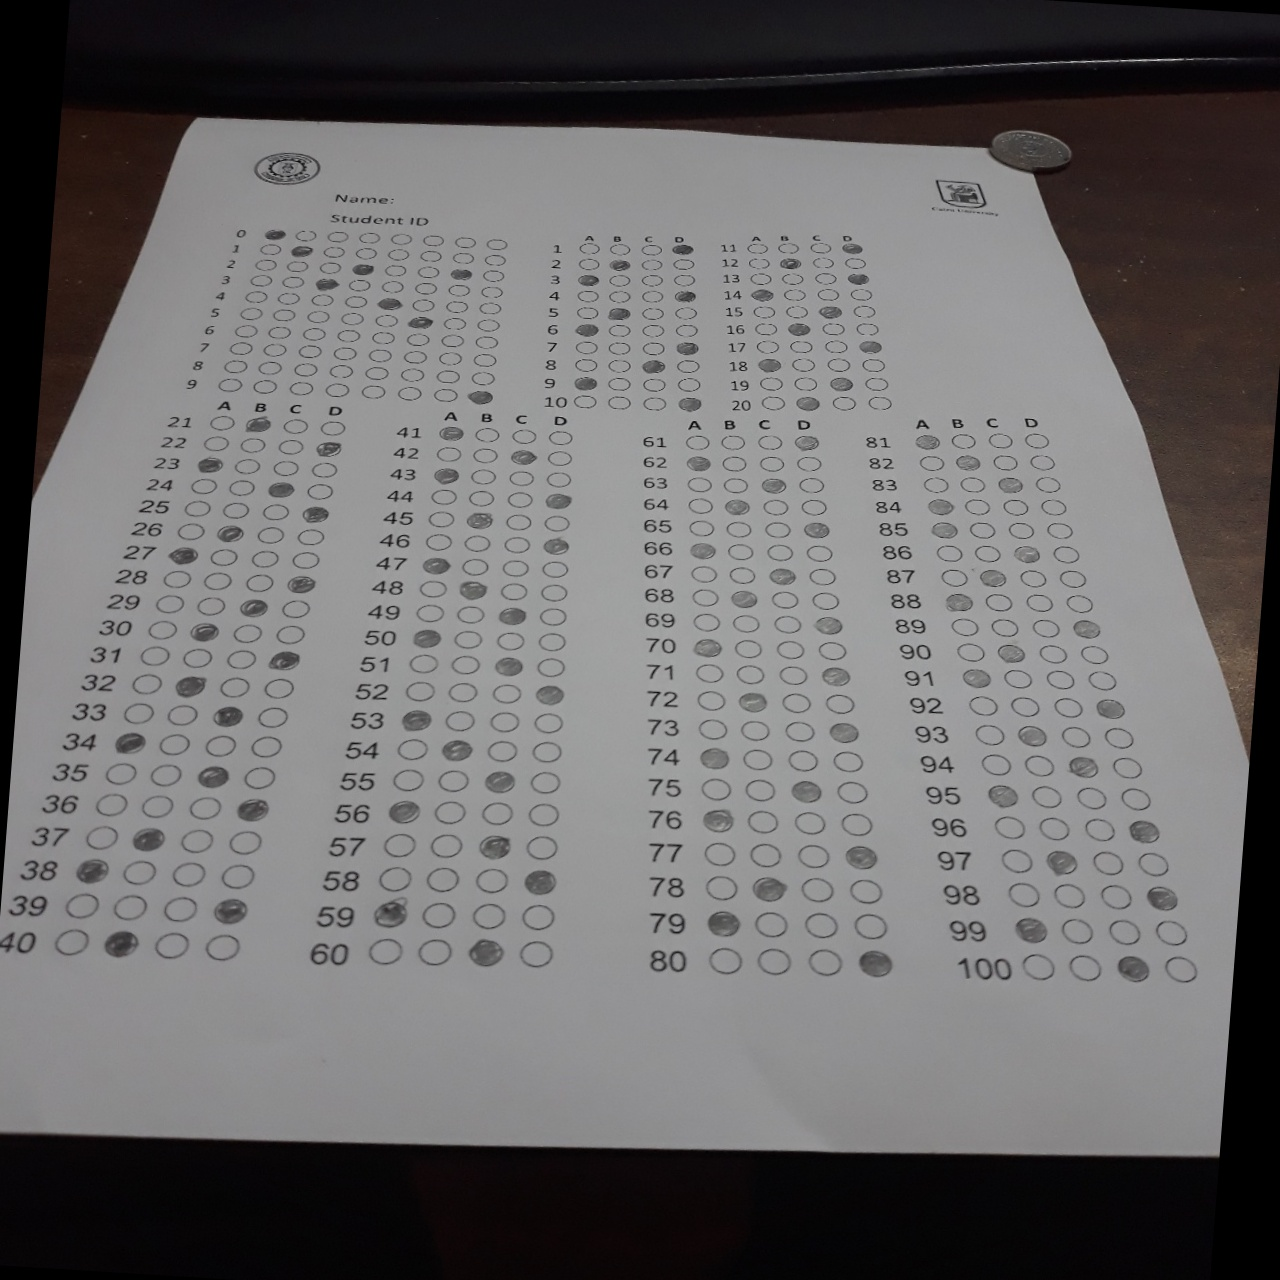not-c: (706, 944, 744, 975), (802, 908, 840, 940), (1151, 917, 1189, 948), (745, 837, 782, 869), (469, 898, 506, 928), (422, 865, 459, 896), (428, 830, 465, 860), (381, 828, 418, 858), (474, 864, 511, 894), (527, 797, 565, 828), (388, 762, 425, 792), (755, 945, 792, 975), (701, 836, 738, 866), (1019, 949, 1056, 980), (1107, 917, 1144, 947), (1053, 879, 1090, 910), (414, 937, 452, 966), (518, 937, 554, 967), (377, 863, 414, 893), (524, 831, 560, 862), (753, 908, 789, 939), (1068, 951, 1104, 981), (1097, 880, 1133, 911), (420, 899, 457, 928), (477, 798, 515, 828), (797, 873, 835, 903), (1160, 954, 1198, 983), (431, 796, 467, 826), (520, 903, 557, 932), (704, 873, 741, 903), (796, 840, 832, 870), (1056, 915, 1092, 945), (368, 937, 406, 965), (999, 847, 1036, 874), (1088, 847, 1125, 874), (1081, 815, 1118, 842), (1117, 785, 1155, 812), (1108, 753, 1145, 779), (1056, 721, 1094, 748), (1007, 879, 1043, 906), (1099, 723, 1136, 750), (969, 720, 1006, 747), (978, 750, 1014, 777), (1022, 751, 1058, 778), (993, 815, 1030, 840), (1037, 813, 1073, 840), (1030, 781, 1065, 808), (1133, 849, 1170, 874), (1076, 784, 1112, 810), (529, 765, 561, 794), (847, 876, 881, 903), (229, 829, 263, 855), (852, 913, 886, 939), (840, 811, 873, 837), (141, 794, 175, 818), (188, 795, 222, 819), (181, 828, 215, 852), (164, 896, 198, 920), (113, 894, 147, 919), (55, 928, 89, 953), (806, 949, 840, 974), (440, 765, 470, 792), (531, 736, 563, 762), (222, 864, 254, 888), (155, 932, 188, 956), (64, 892, 97, 917), (86, 824, 120, 847), (533, 706, 564, 731), (274, 622, 306, 647), (489, 707, 520, 731), (447, 679, 478, 703), (452, 625, 484, 649), (122, 859, 155, 883), (173, 862, 206, 885), (407, 652, 440, 675), (501, 531, 533, 554), (816, 636, 849, 660), (741, 747, 774, 770), (1010, 695, 1043, 719), (966, 694, 999, 717), (1049, 694, 1082, 717), (1044, 667, 1077, 690), (244, 572, 274, 597), (486, 737, 517, 762), (539, 556, 571, 579), (776, 636, 808, 660), (1001, 663, 1033, 687), (1063, 591, 1095, 614), (1043, 518, 1075, 542), (207, 937, 240, 959), (414, 600, 447, 622), (731, 636, 764, 659), (692, 662, 724, 685), (822, 693, 855, 715), (745, 811, 778, 833), (794, 811, 826, 833), (835, 779, 867, 802), (1030, 615, 1063, 638), (1023, 588, 1056, 611), (937, 565, 969, 587), (1016, 565, 1049, 587), (1049, 542, 1082, 564), (988, 617, 1022, 638), (445, 707, 476, 730), (451, 653, 482, 676), (538, 604, 568, 627), (264, 676, 295, 699), (132, 670, 164, 693), (403, 679, 435, 701), (536, 655, 567, 678), (496, 628, 527, 651), (417, 576, 449, 598), (538, 580, 570, 602), (771, 612, 803, 634), (731, 613, 763, 635), (778, 663, 810, 686), (734, 662, 765, 685), (695, 689, 727, 712), (741, 719, 772, 741), (782, 719, 813, 741), (781, 690, 812, 713), (832, 750, 864, 772), (744, 778, 776, 801), (1085, 669, 1117, 692), (1078, 644, 1110, 666), (1039, 641, 1070, 663), (956, 640, 988, 662), (983, 591, 1015, 613), (948, 614, 980, 636), (973, 540, 1005, 563), (1057, 566, 1089, 588), (696, 717, 729, 738), (699, 778, 731, 799), (1037, 495, 1070, 516), (280, 598, 309, 621), (183, 646, 213, 668), (123, 702, 154, 724), (204, 734, 234, 756), (399, 737, 429, 760), (491, 683, 522, 706), (456, 602, 486, 625), (499, 579, 530, 601), (501, 554, 531, 577), (787, 748, 817, 770), (251, 735, 282, 756), (257, 706, 288, 727), (536, 629, 567, 651), (467, 486, 498, 508), (503, 511, 535, 532), (686, 493, 717, 515), (689, 610, 721, 631), (933, 542, 965, 563), (1000, 496, 1033, 516), (220, 675, 250, 697), (150, 764, 181, 785), (424, 531, 455, 552), (459, 554, 490, 576), (425, 508, 456, 529), (504, 488, 535, 509), (510, 424, 542, 444), (720, 474, 751, 493), (809, 590, 840, 610), (1033, 474, 1064, 493), (226, 648, 256, 669), (166, 704, 196, 726), (158, 733, 188, 754), (244, 765, 273, 787), (96, 794, 125, 815), (540, 512, 570, 533), (462, 532, 492, 552), (429, 485, 459, 505), (685, 517, 715, 537), (809, 567, 839, 587), (915, 454, 946, 474), (105, 762, 134, 783), (467, 465, 498, 484), (720, 452, 751, 471), (727, 565, 758, 584), (1007, 519, 1039, 538), (546, 448, 577, 467), (474, 424, 504, 443), (470, 445, 501, 464), (685, 475, 715, 493), (753, 433, 783, 451), (756, 454, 787, 472), (794, 475, 824, 493), (799, 497, 830, 516), (769, 588, 799, 607), (688, 564, 719, 583), (724, 542, 755, 560), (763, 542, 794, 560), (763, 520, 794, 539), (956, 475, 987, 493), (921, 475, 952, 493), (164, 568, 192, 588), (543, 469, 574, 486), (433, 445, 464, 463), (986, 430, 1017, 448), (949, 433, 981, 450), (546, 427, 576, 445), (505, 468, 535, 486), (792, 455, 822, 474), (806, 544, 836, 563), (692, 588, 721, 607), (760, 497, 789, 516), (234, 622, 261, 642), (722, 520, 753, 538), (967, 520, 998, 538), (989, 452, 1020, 470), (1028, 452, 1058, 470), (189, 476, 217, 495), (682, 433, 712, 450), (719, 433, 748, 450), (964, 497, 993, 515), (209, 413, 236, 431), (202, 434, 229, 452), (263, 502, 290, 520), (306, 482, 333, 501), (297, 527, 324, 546), (319, 420, 346, 438), (252, 550, 279, 568), (292, 550, 319, 568), (197, 595, 224, 614), (150, 619, 177, 638), (1021, 433, 1051, 449), (272, 459, 300, 477), (309, 459, 338, 477), (209, 547, 237, 565), (239, 435, 266, 452), (282, 416, 309, 434), (234, 456, 261, 474), (223, 501, 250, 518), (177, 522, 204, 539), (141, 646, 168, 663), (183, 499, 211, 516), (831, 394, 857, 411), (823, 338, 849, 355), (817, 285, 843, 302), (862, 374, 888, 390), (865, 394, 892, 410), (275, 437, 302, 454), (229, 479, 256, 496), (257, 525, 284, 542), (204, 572, 231, 588), (156, 594, 183, 611), (855, 321, 880, 338), (826, 358, 852, 374), (821, 320, 846, 336), (577, 257, 602, 273), (573, 305, 599, 321), (675, 375, 701, 392), (411, 280, 438, 295), (479, 282, 506, 298), (346, 277, 373, 292), (440, 333, 467, 348), (257, 240, 284, 256), (275, 291, 302, 306), (297, 342, 324, 358), (302, 325, 329, 340), (311, 291, 338, 306), (781, 271, 805, 287), (784, 302, 809, 319), (754, 321, 778, 338), (755, 338, 779, 354), (638, 270, 662, 286), (607, 288, 632, 305), (640, 306, 665, 322), (674, 304, 699, 320), (574, 338, 599, 354), (608, 340, 633, 356), (640, 340, 665, 356), (675, 358, 700, 374), (607, 375, 632, 392), (573, 393, 598, 409), (641, 395, 666, 411), (862, 358, 887, 373), (812, 268, 838, 284), (761, 394, 787, 409), (576, 287, 601, 302), (573, 358, 599, 373), (384, 246, 410, 261), (355, 246, 381, 261), (339, 309, 365, 325), (442, 314, 468, 329), (338, 327, 363, 342), (406, 331, 431, 346), (403, 349, 429, 365), (366, 347, 392, 362), (327, 362, 353, 377), (435, 368, 461, 383), (401, 366, 427, 381), (288, 380, 314, 395), (217, 376, 243, 392), (222, 358, 247, 373), (226, 340, 252, 355), (236, 322, 261, 338), (246, 271, 272, 286), (295, 226, 321, 241), (267, 324, 293, 339), (261, 342, 287, 358), (294, 361, 320, 376), (319, 259, 345, 274), (324, 243, 349, 258), (640, 322, 663, 339), (607, 358, 631, 374), (642, 375, 666, 392), (607, 395, 631, 411), (377, 279, 404, 293), (753, 304, 777, 319), (794, 375, 818, 390), (670, 256, 695, 271), (673, 322, 697, 338), (607, 322, 632, 338), (388, 230, 413, 245), (445, 299, 470, 314), (477, 299, 502, 314), (272, 307, 297, 322), (482, 252, 508, 266), (418, 248, 444, 263), (417, 265, 443, 279), (382, 263, 408, 277), (358, 230, 383, 244), (445, 282, 471, 297), (343, 294, 369, 308), (476, 316, 502, 331), (375, 312, 401, 326), (372, 329, 397, 343), (474, 334, 499, 348), (472, 352, 498, 366), (438, 350, 464, 365), (335, 346, 361, 360), (325, 382, 350, 396), (361, 384, 387, 399), (397, 384, 423, 399), (365, 366, 390, 380), (434, 386, 459, 400), (253, 380, 279, 394), (238, 306, 264, 320), (244, 288, 270, 302), (252, 256, 278, 270), (285, 258, 311, 272), (256, 359, 281, 373), (304, 309, 329, 324), (783, 287, 806, 302), (790, 356, 813, 372), (760, 375, 783, 390), (670, 271, 694, 286), (640, 288, 663, 304), (324, 229, 350, 241), (788, 339, 812, 353), (484, 236, 509, 250), (411, 297, 436, 311), (470, 370, 495, 384), (281, 275, 306, 290), (747, 256, 772, 268), (747, 271, 772, 284), (608, 273, 632, 287), (849, 287, 873, 300), (775, 240, 799, 253), (481, 268, 505, 281), (452, 234, 477, 247), (641, 241, 663, 256), (843, 256, 866, 268), (852, 304, 876, 316), (812, 256, 836, 268), (745, 240, 769, 253), (640, 257, 663, 270), (422, 233, 445, 246), (810, 241, 835, 253), (578, 240, 602, 252), (452, 251, 477, 263), (610, 241, 632, 254)
taken-c: (380, 795, 423, 828), (518, 864, 558, 896), (209, 894, 248, 924), (73, 855, 113, 884), (472, 832, 512, 862), (372, 899, 409, 930), (101, 927, 139, 956), (465, 937, 504, 966), (479, 764, 518, 794), (857, 951, 896, 978), (699, 806, 736, 833), (954, 663, 992, 690), (1141, 887, 1179, 913), (990, 639, 1029, 665), (750, 874, 787, 901), (1044, 847, 1081, 874), (1064, 753, 1101, 779), (787, 779, 824, 805), (840, 843, 878, 869), (1012, 917, 1049, 942), (1116, 956, 1153, 982), (1091, 695, 1129, 721), (826, 719, 863, 744), (696, 745, 733, 771), (704, 911, 741, 937), (1126, 817, 1163, 843), (982, 784, 1019, 810), (1014, 722, 1051, 747), (498, 600, 535, 625), (408, 626, 445, 649), (440, 737, 475, 762), (397, 708, 433, 733), (492, 653, 527, 678), (530, 681, 565, 706), (270, 651, 302, 675), (456, 579, 492, 600), (509, 445, 545, 467), (756, 474, 792, 495), (813, 666, 850, 687), (418, 553, 452, 576), (115, 729, 147, 753), (425, 464, 461, 485), (719, 497, 754, 518), (788, 431, 823, 452), (724, 588, 760, 610), (683, 538, 719, 559), (689, 636, 724, 658), (537, 535, 573, 554), (433, 421, 469, 441), (801, 520, 837, 540), (734, 693, 770, 713), (282, 571, 313, 594), (189, 620, 220, 642), (461, 510, 496, 530), (542, 491, 577, 511), (685, 452, 720, 472), (763, 564, 798, 584), (166, 545, 197, 567), (175, 674, 205, 696), (237, 798, 267, 821), (239, 595, 268, 618), (212, 703, 241, 726), (132, 828, 162, 850), (197, 765, 227, 787), (944, 590, 973, 611), (1071, 618, 1102, 638), (978, 567, 1008, 587), (993, 476, 1024, 495), (954, 452, 983, 472), (1013, 545, 1043, 564), (931, 519, 961, 538), (924, 497, 954, 516), (914, 433, 942, 452), (196, 455, 223, 474), (215, 524, 241, 542), (266, 481, 293, 497), (301, 505, 328, 522), (407, 314, 433, 329), (787, 321, 811, 336), (829, 375, 853, 390), (668, 240, 693, 256), (750, 285, 774, 300), (680, 396, 703, 411), (676, 339, 700, 354), (576, 321, 599, 336), (263, 224, 286, 239), (576, 272, 600, 286), (840, 240, 863, 256), (818, 304, 840, 319), (608, 257, 631, 272), (316, 275, 339, 291), (858, 339, 881, 353), (796, 395, 819, 409), (756, 356, 779, 370), (673, 288, 696, 302), (606, 306, 629, 320), (449, 266, 472, 280), (469, 389, 492, 403), (353, 261, 376, 275), (288, 243, 312, 257), (315, 441, 339, 455), (778, 256, 801, 270), (641, 358, 663, 372), (573, 376, 595, 390), (846, 271, 870, 284), (246, 418, 270, 431), (377, 297, 400, 309)
